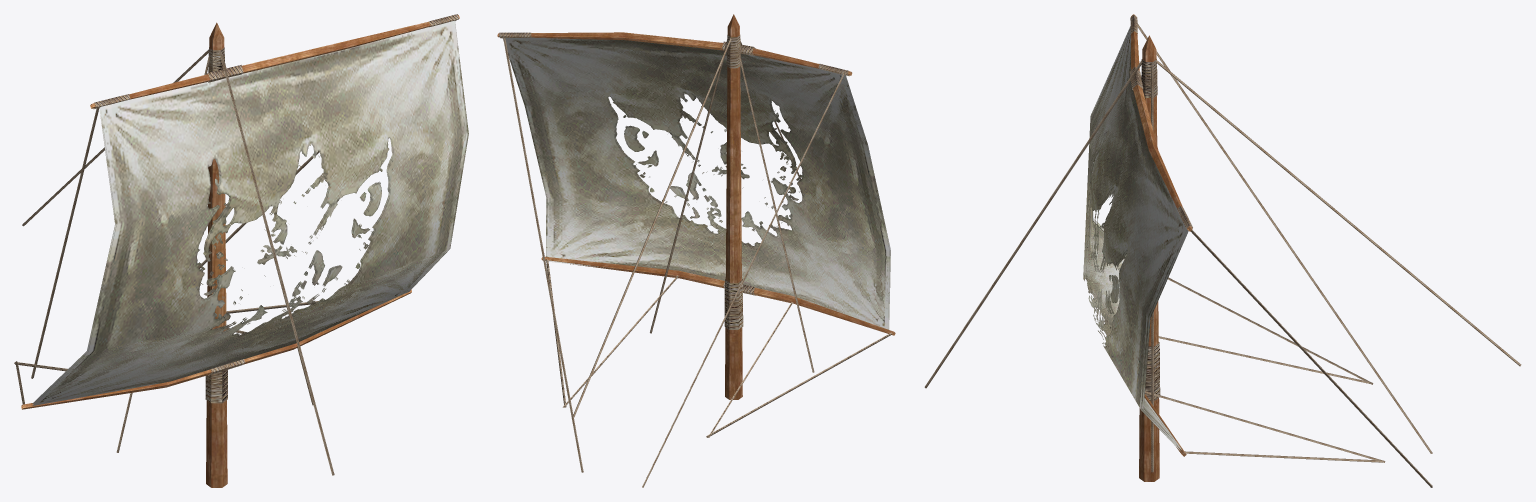
The model's file is pers_fishship_sail.dae.
The picture shows the model from 3 angles, left to right: view 1: azimuth 30°, elevation 25°; view 2: azimuth 150°, elevation 25°; view 3: azimuth 270°, elevation 25°; orthographic projection. The views are drawn at different scales.
Visible parts, largest first — view 1: Mast; view 2: Mast; view 3: Mast.
Boxes of the visible parts, left/top/right/bottom form: Mast: left=14, top=14, right=468, bottom=487; Mast: left=497, top=14, right=895, bottom=487; Mast: left=924, top=14, right=1521, bottom=487.
Bounding box in the file's own units: 8.87 × 10.45 × 8.55.
